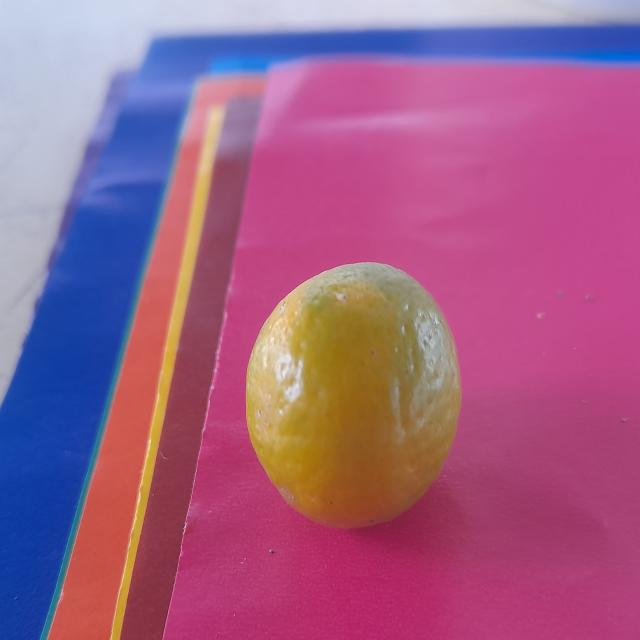greening: (240, 254, 458, 528)
